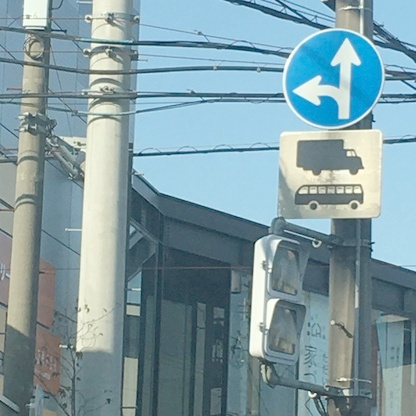Direction_sign: (278, 22, 383, 130)
